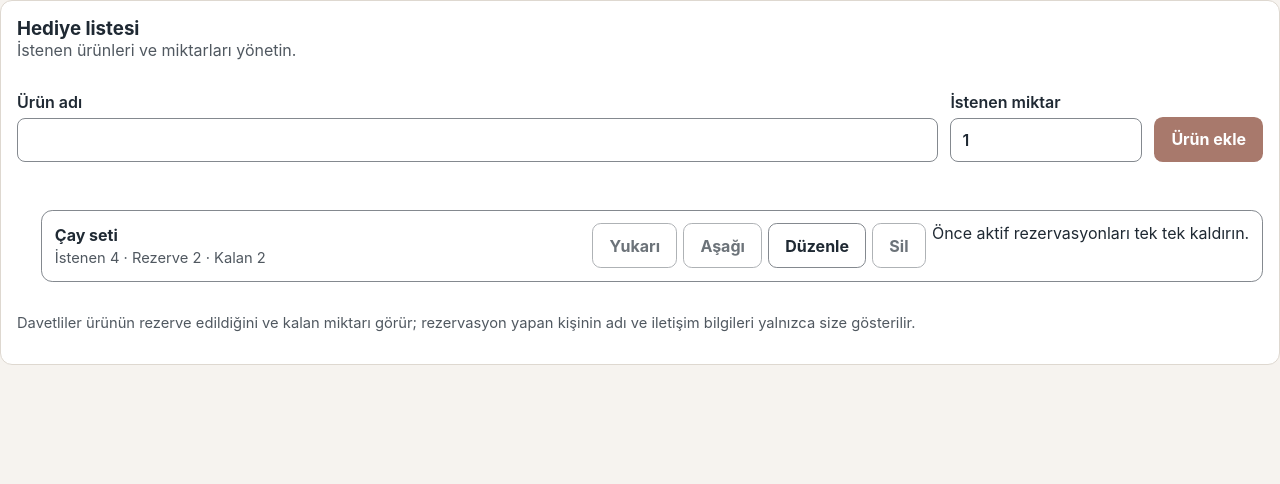
Test case: GiftRegistryManagementPanel › creates items with CSRF and adopts the API response
Step 1. Type "Vazo" into the field labelled "Ürün adı" → (478, 140), box [17,118,938,162]
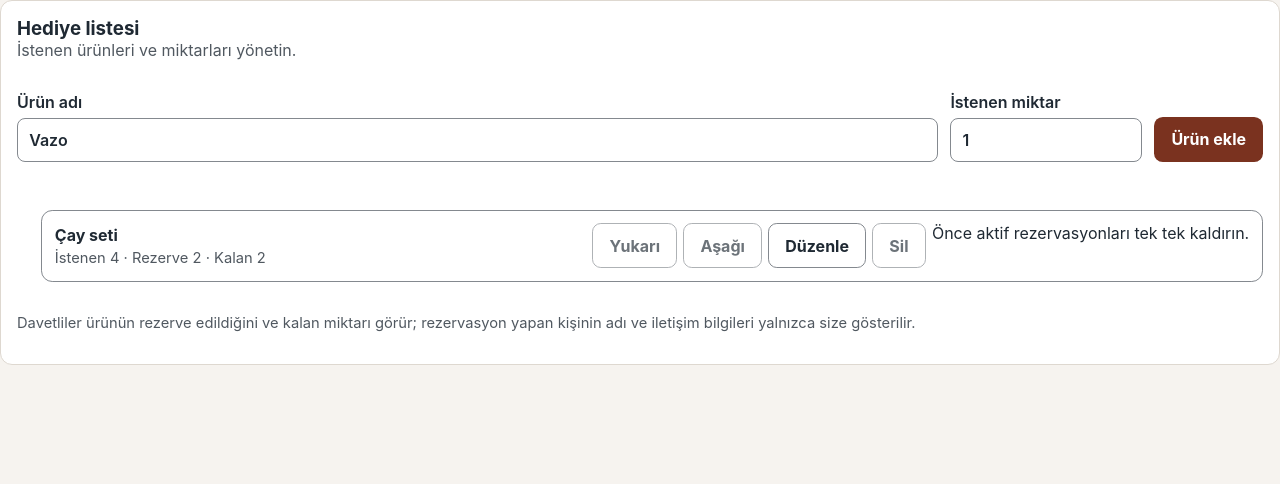
Step 2. Replace the text in the number field labelled "İstenen miktar" with "3" → (1046, 140), box [950,118,1142,162]
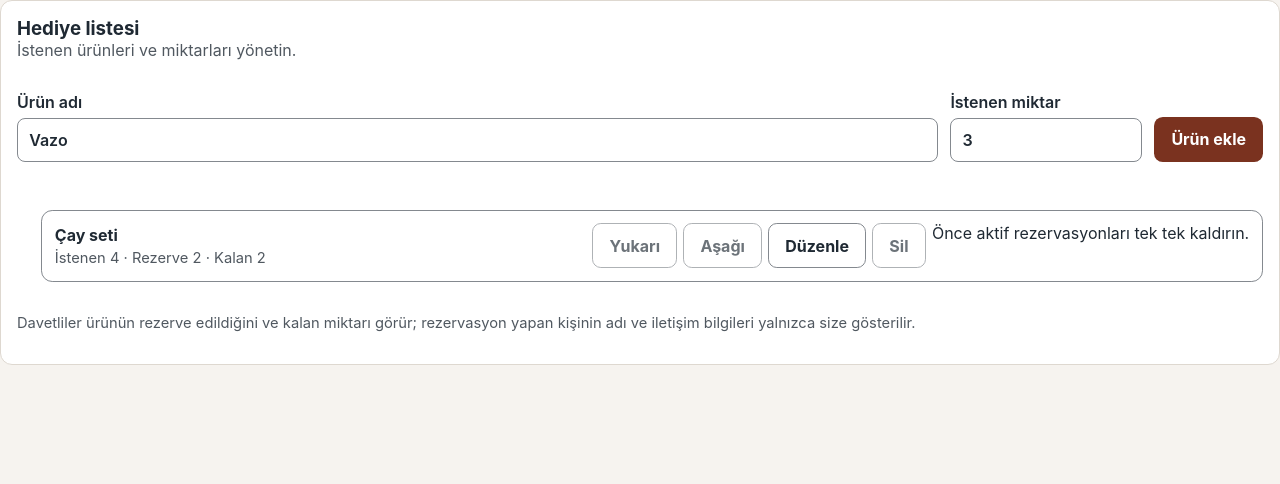
Step 3. Click the button "Ürün ekle" → (1209, 139), box [1154,117,1263,162]
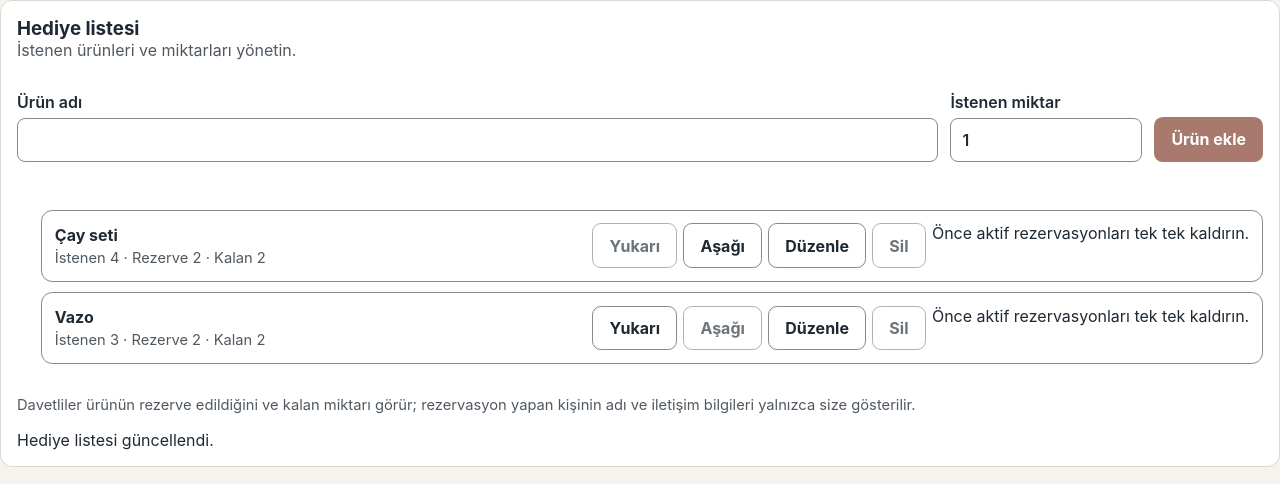
Now the text "Vazo" is shown, box [55,307,94,327]
